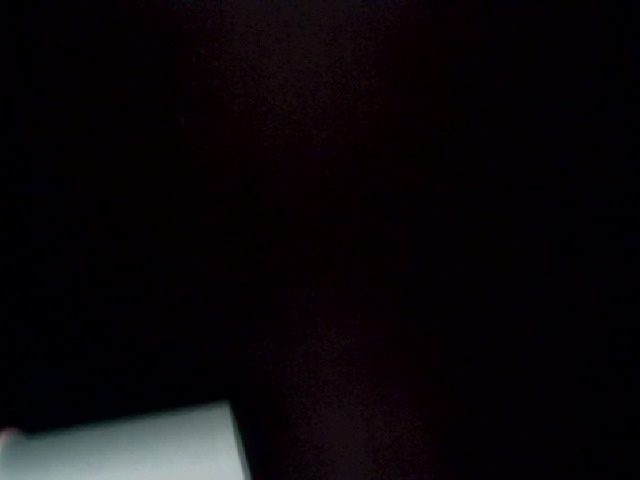CYLJ: (256, 309, 358, 425)
